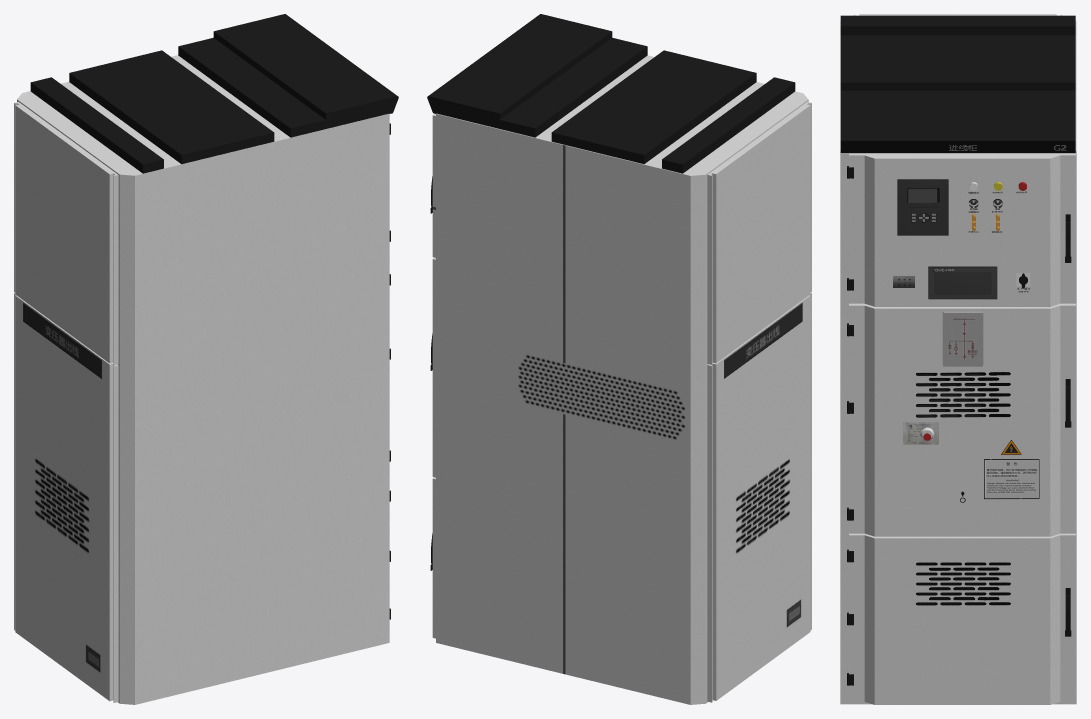
File: jingxiangui.FBX
3 renders of one model, left to right at view 1: azimuth 30°, elevation 25°; view 2: azimuth 150°, elevation 25°; view 3: azimuth 270°, elevation 25°, orthographic. The views are drawn at different scales.
Visible parts, largest first — view 1: P6; view 2: P6; view 3: P6.
Part boxes in pixels (box(x1,y1,x2,y2)): P6: box(14, 14, 398, 704); P6: box(427, 14, 811, 704); P6: box(840, 14, 1076, 704).
Size of the model in its own units: 1.21 by 2.19 by 0.823.
1 material, 1 textured.
